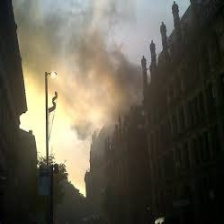smoke: (20, 4, 150, 132)
